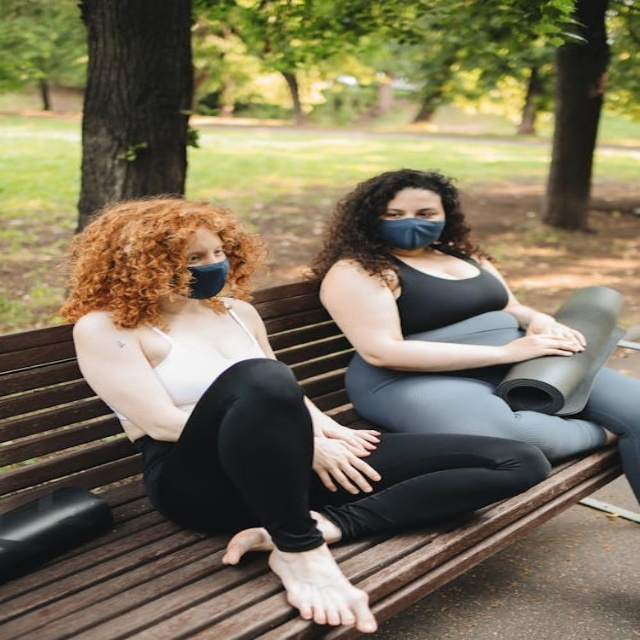Mascara: (374, 216, 446, 251), (182, 256, 230, 298)
Sin_gafas: (170, 240, 232, 265), (380, 202, 447, 219)
Sin_guantes: (310, 421, 383, 493), (518, 308, 598, 363)
